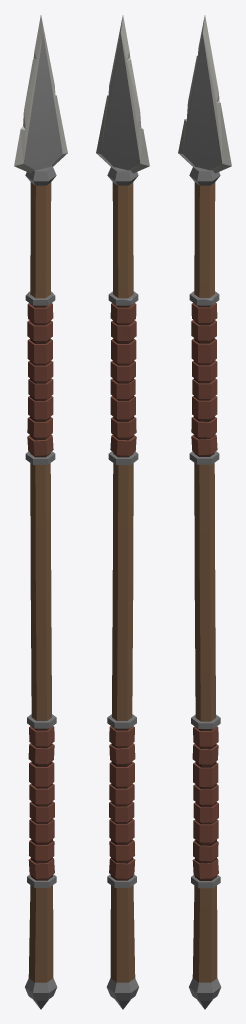
File: lanca.glb
3 renders of one model, left to right at view 1: azimuth 30°, elevation 25°; view 2: azimuth 150°, elevation 25°; view 3: azimuth 330°, elevation 25°, orthographic.
Parts seen in each view (by area): view 1: lanca; view 2: lanca; view 3: lanca.
Boxes of the visible parts, box(x1,y1,x2,y2) form: lanca: box(14, 15, 67, 1009); lanca: box(96, 15, 149, 1009); lanca: box(178, 15, 231, 1009).
Size of the model in its own units: 0.0907 by 1.6 by 0.0475.
1 material, 1 textured.
